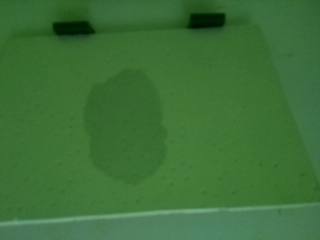Water_detected: (103, 83, 169, 174)
